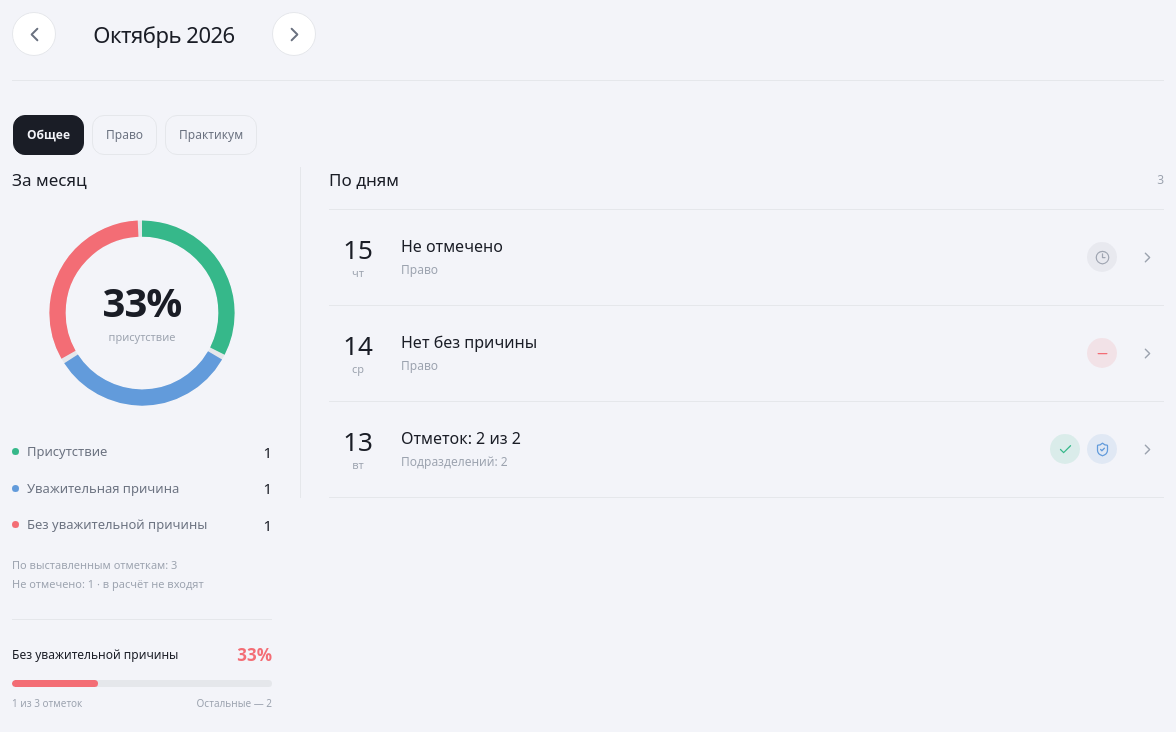
Test: student monthly view › does not display stale data after a failed month request and retries the same period
Expected: the picture is shown, [38,208,246,416]
Click the button named "Следующий месяц". click: (294, 34)
box: [272,12,316,56]
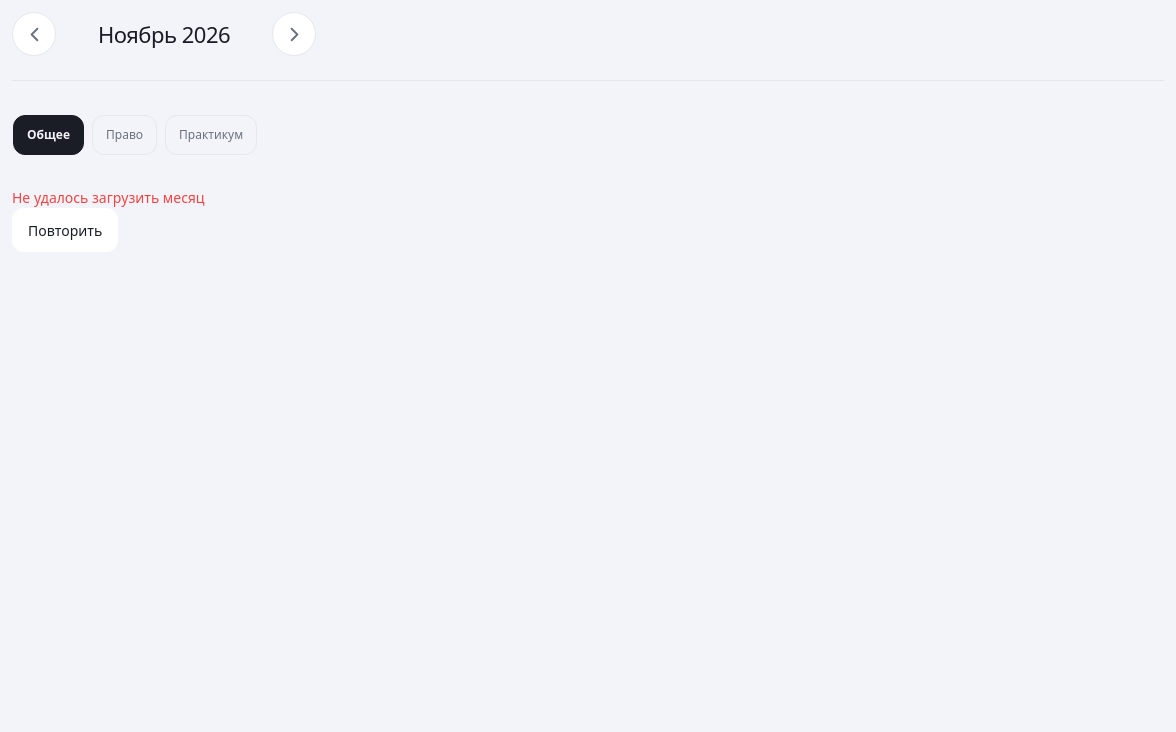
Now the message "Не удалось загрузить месяц Повторить" is shown, box [12,188,205,252]
Now the picture is gone
Click the button "Повторить". click: (65, 230)
box: [12,208,118,252]
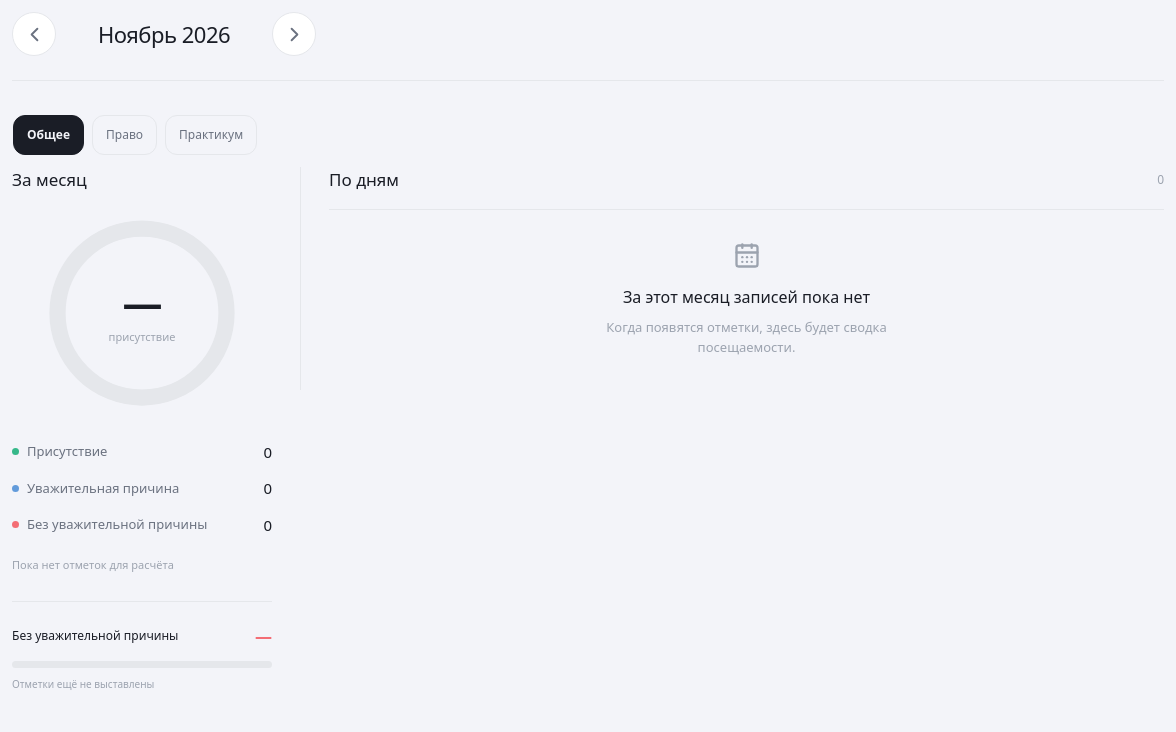
Now the picture is shown, box [38,208,246,416]
